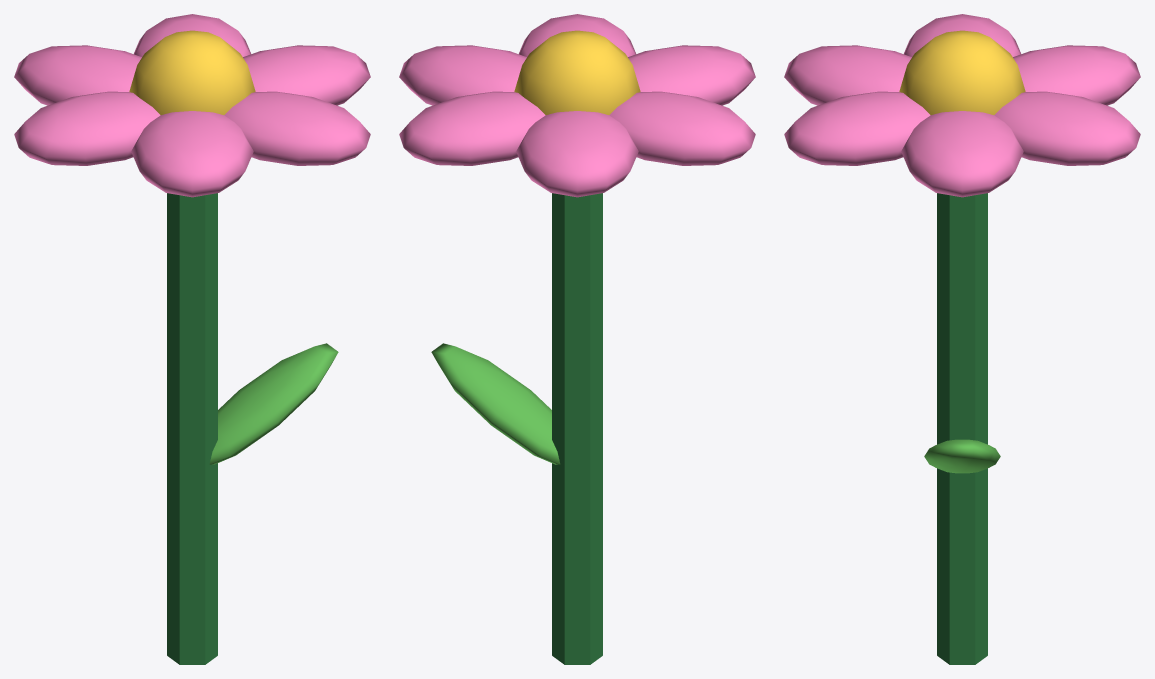
The model's file is Prop_Garden_Flower.fbx.
The picture shows the model from 3 angles, left to right: view 1: azimuth 30°, elevation 25°; view 2: azimuth 150°, elevation 25°; view 3: azimuth 270°, elevation 25°; orthographic projection.
Parts seen in each view (by area): view 1: Prop_Garden_Flower; view 2: Prop_Garden_Flower; view 3: Prop_Garden_Flower.
Boxes of the visible parts, box(x1,y1,x2,y2) form: Prop_Garden_Flower: box(14, 14, 370, 664); Prop_Garden_Flower: box(399, 14, 755, 664); Prop_Garden_Flower: box(784, 14, 1140, 664).
Size of the model in its own units: 0.628 by 1.07 by 0.5584.
